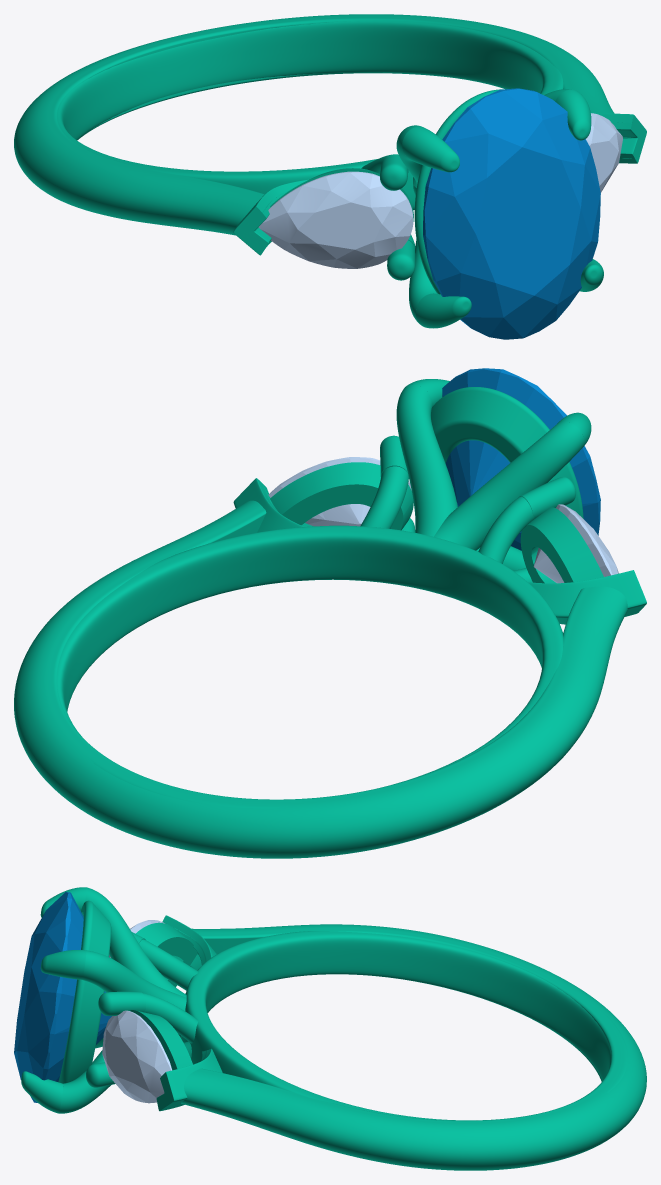
3 renders of one model, top to bottom at view 1: azimuth 30°, elevation 25°; view 2: azimuth 150°, elevation 25°; view 3: azimuth 270°, elevation 25°, orthographic. The views are drawn at different scales.
Visible parts, largest first — view 1: Diamond_Oval, JewelCAD (×5), JST.SRO 3(base).3dm, Diamond_Pear (×2); view 2: JST.SRO 3(base).3dm, JewelCAD (×7), Diamond_Oval, Diamond_Pear (×2); view 3: JST.SRO 3(base).3dm, JewelCAD (×7), Diamond_Oval, Diamond_Pear.
Boxes of the visible parts, x1,y1,x2,y2 form: Diamond_Oval: [423, 88, 600, 339]; JewelCAD (×5): [57, 18, 646, 280]; JST.SRO 3(base).3dm: [14, 14, 632, 328]; Diamond_Pear (×2): [258, 113, 622, 268]; JST.SRO 3(base).3dm: [14, 379, 627, 858]; JewelCAD (×7): [57, 435, 646, 808]; Diamond_Oval: [442, 368, 600, 550]; Diamond_Pear (×2): [268, 457, 618, 583]; JST.SRO 3(base).3dm: [21, 887, 646, 1170]; JewelCAD (×7): [86, 915, 627, 1120]; Diamond_Oval: [14, 892, 111, 1102]; Diamond_Pear: [102, 1010, 171, 1103].
Size of what is drawn, in the model's own units: 2.4 by 1.06 by 3.02.
